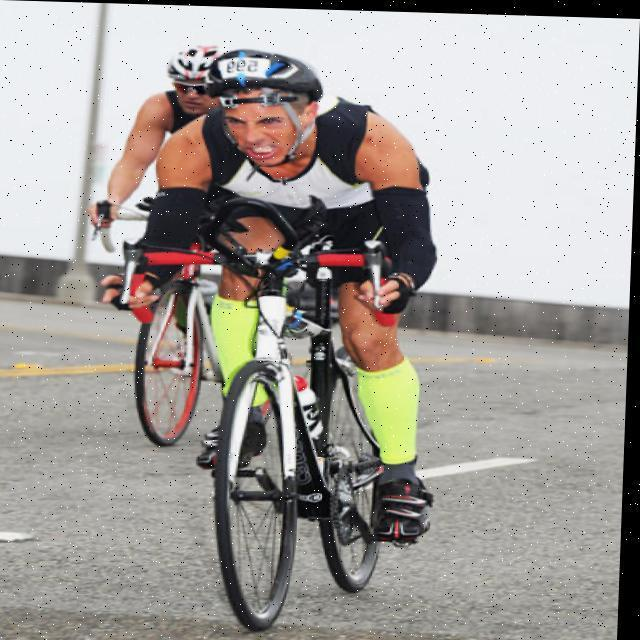Helmet: (182, 38, 340, 167), (167, 38, 222, 110)
